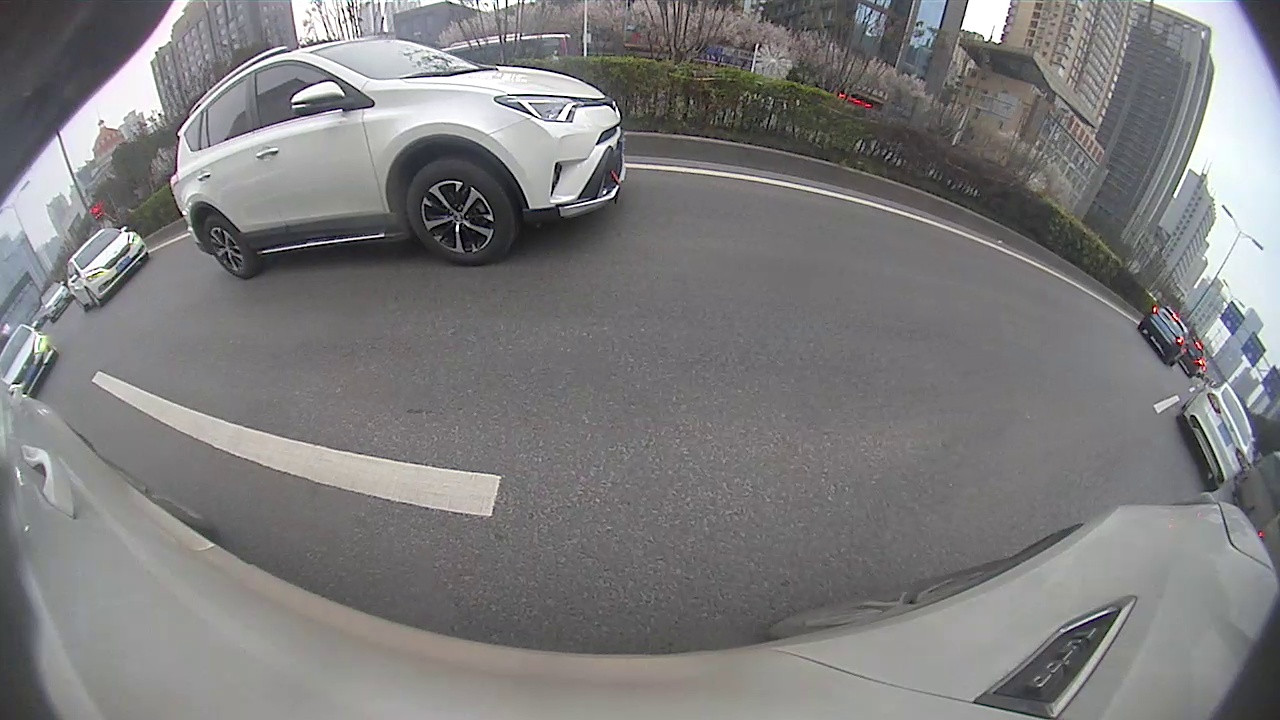car: (168, 34, 625, 279), (1176, 379, 1258, 493), (63, 223, 150, 313), (1, 323, 58, 398), (1136, 303, 1193, 366)
front: (403, 161, 510, 265)
rear: (205, 217, 246, 279)
